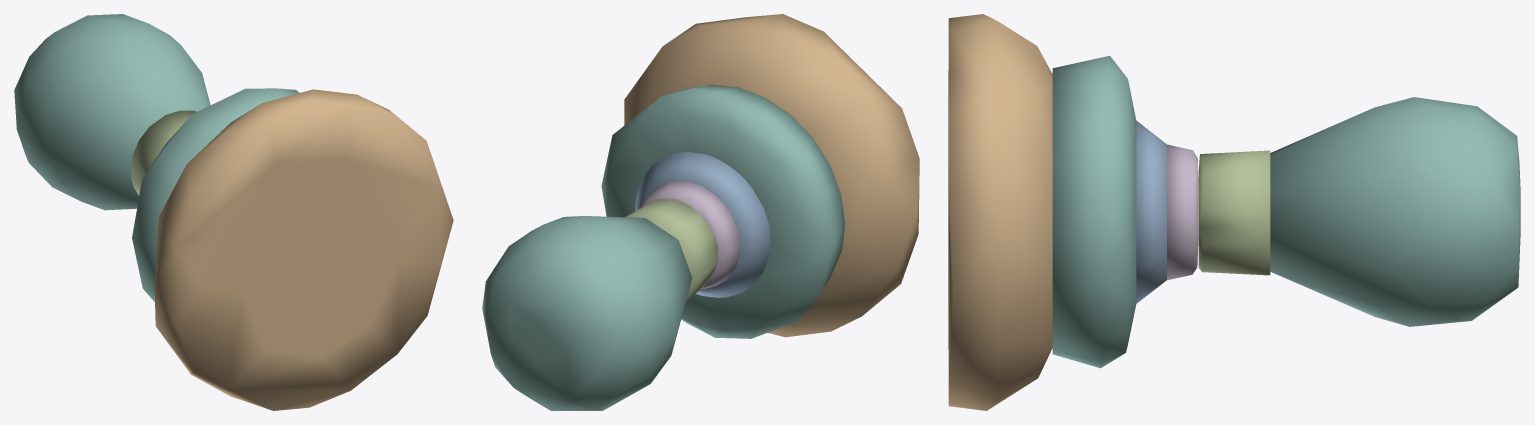
The picture shows the model from 3 angles, left to right: view 1: azimuth 30°, elevation 25°; view 2: azimuth 150°, elevation 25°; view 3: azimuth 270°, elevation 25°; orthographic projection. The views are drawn at different scales.
Bounding box in the file's own units: 1.15 × 1.15 × 1.65.
